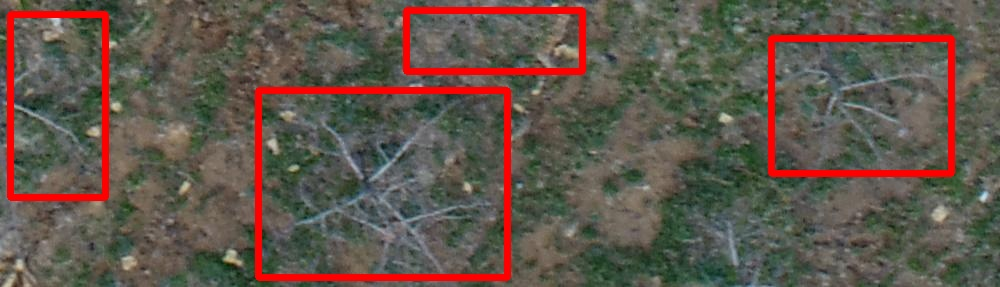apple: (258, 90, 507, 277), (771, 38, 951, 173), (10, 14, 105, 197), (406, 10, 582, 71)
